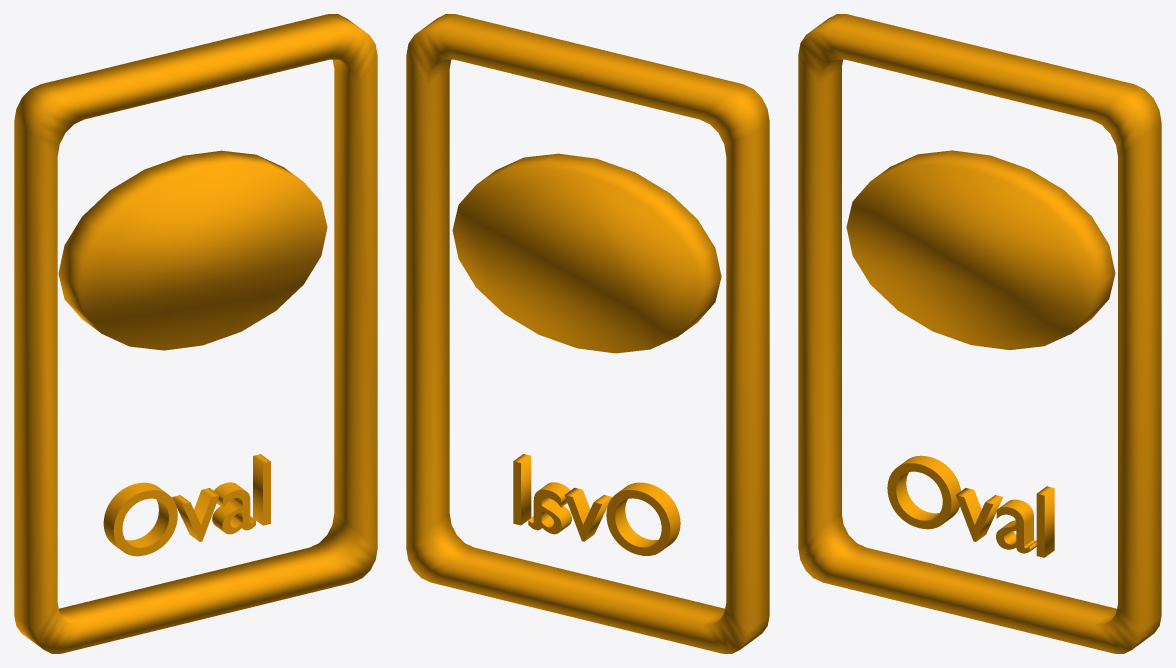
File: Shape_Oval.gltf
3 renders of one model, left to right at view 1: azimuth 30°, elevation 25°; view 2: azimuth 150°, elevation 25°; view 3: azimuth 330°, elevation 25°, orthographic.
Parts seen in each view (by area): view 1: Text.010; view 2: Text.010; view 3: Text.010.
Boxes of the visible parts, x1,y1,x2,y2 form: Text.010: (14,14,377,653); Text.010: (406,14,769,653); Text.010: (798,14,1161,653).
Size of the model in its own units: 1 by 1.56 by 0.1178.
